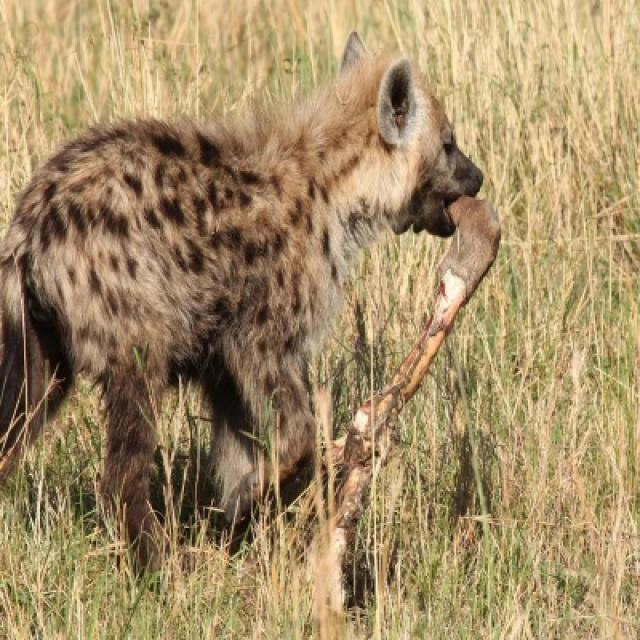hyena: (0, 32, 482, 555)
